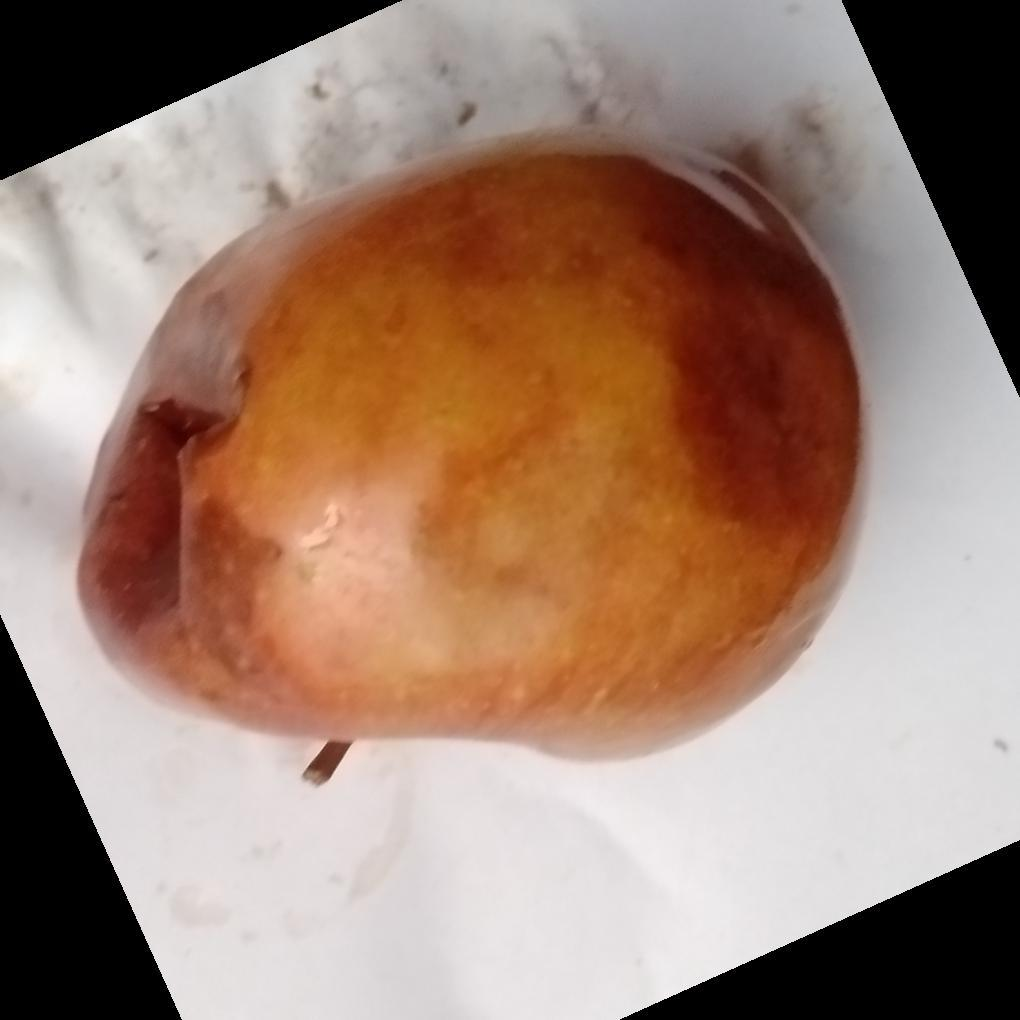FreshOrange: (71, 128, 866, 767)
